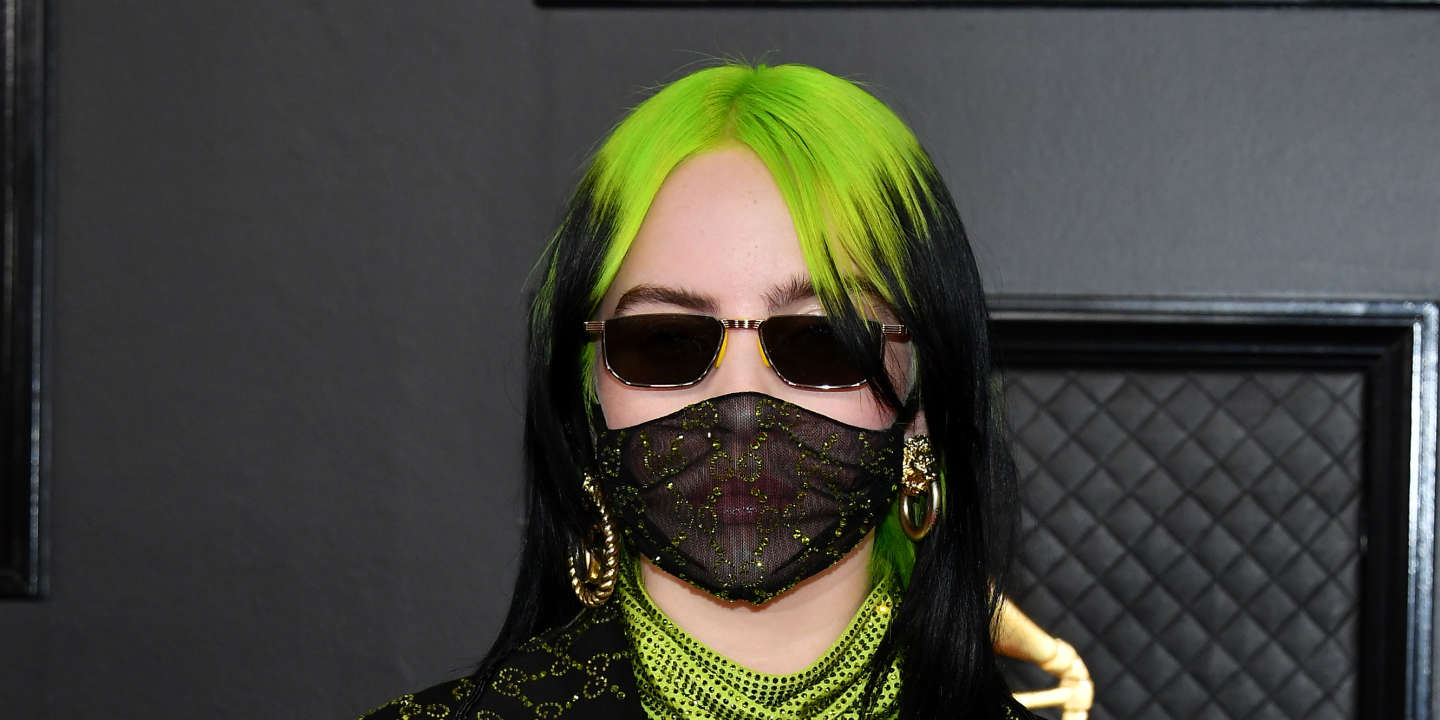with_mask: (567, 160, 935, 612)
